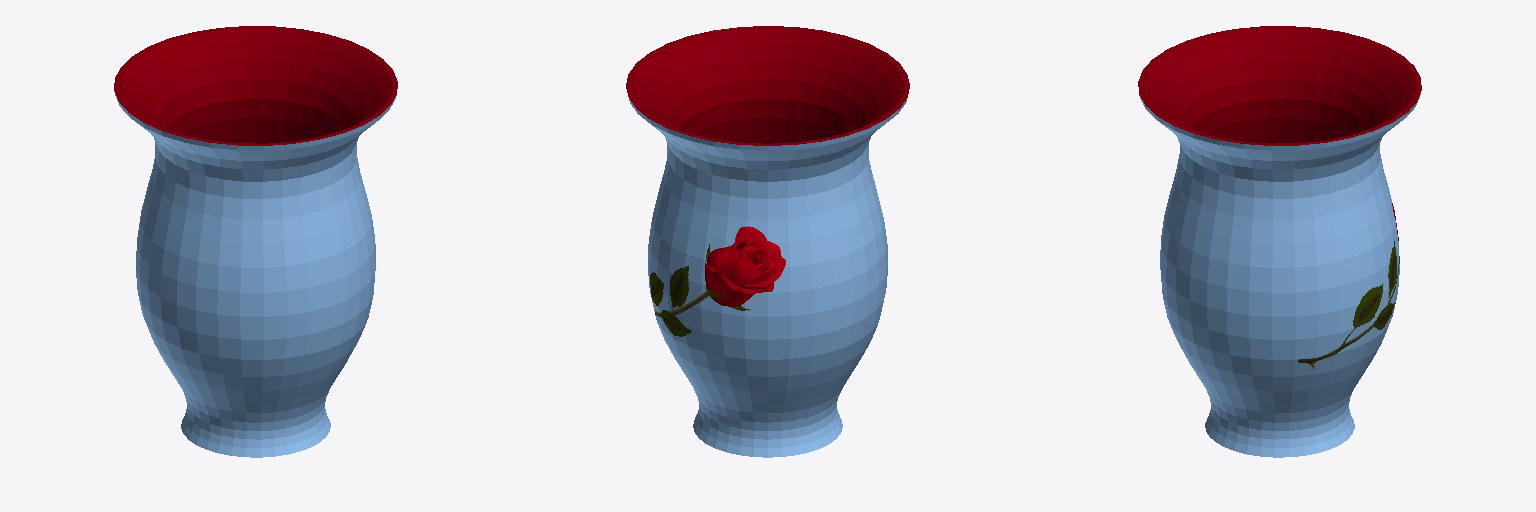
3 views of the same model, side by side, from view 1: azimuth 30°, elevation 25°; view 2: azimuth 150°, elevation 25°; view 3: azimuth 270°, elevation 25° (orthographic).
Visible parts, largest first — view 1: Mesh; view 2: Mesh; view 3: Mesh.
Part boxes in pixels (x1,y1,x2,y2): Mesh: (114,26,397,457); Mesh: (626,26,909,457); Mesh: (1138,26,1421,457).
Size of the model in its own units: 2.85 by 3.77 by 2.85.
1 materials, 1 textured.